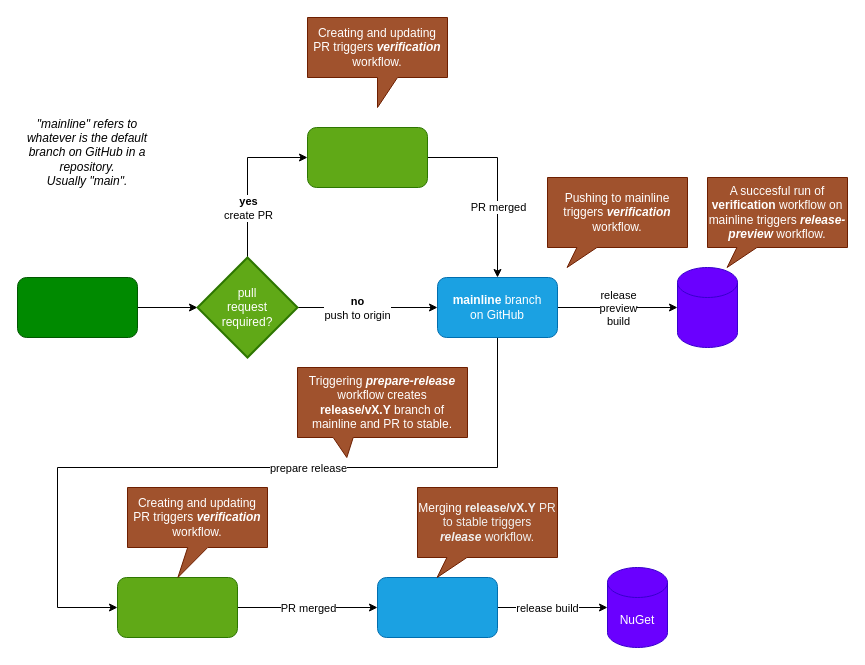
Image size: 865x665. Some labels were removed from this diagram. Each missing label, with the centre of its shape:
GPR: (707,307)
mainline branch on local machine: (77,307)
pull request of local mainline changes: (367,157)
pull request of release/vX.Y branch to stable: (177,607)
stable branch on GitHub: (437,607)
